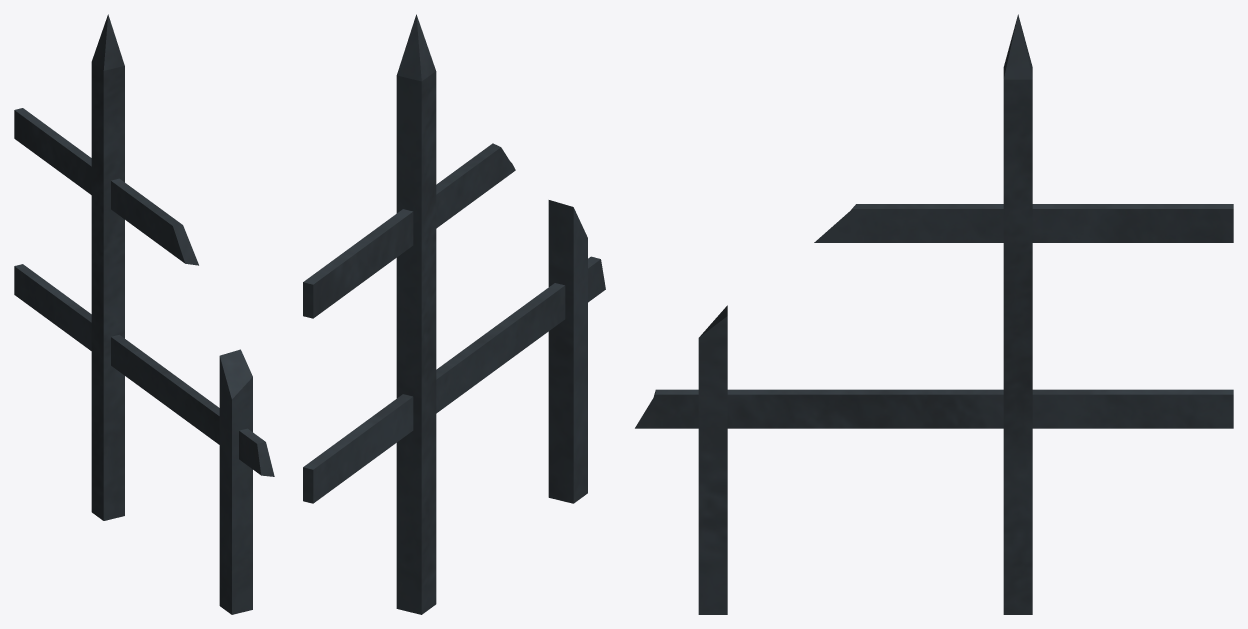
File: sm_metal_fence_ending2.fbx
The picture shows the model from 3 angles, left to right: view 1: azimuth 30°, elevation 25°; view 2: azimuth 150°, elevation 25°; view 3: azimuth 270°, elevation 25°; orthographic projection. The views are drawn at different scales.
Parts seen in each view (by area): view 1: sm_fence_metal_ending2; view 2: sm_fence_metal_ending2; view 3: sm_fence_metal_ending2.
Part boxes in pixels (left/top/right/bottom): sm_fence_metal_ending2: left=14, top=14, right=274, bottom=614; sm_fence_metal_ending2: left=303, top=14, right=605, bottom=614; sm_fence_metal_ending2: left=635, top=14, right=1233, bottom=614.
Bounding box in the file's own units: 0.1737 × 3.94 × 3.59.
